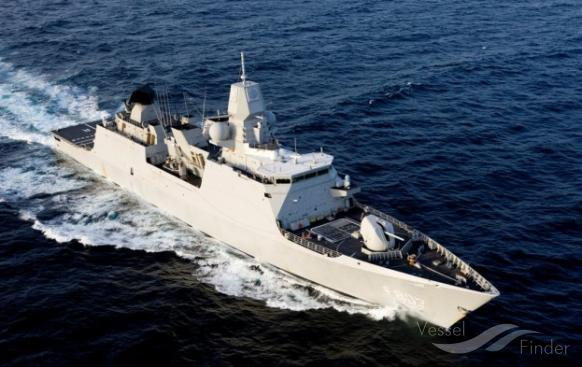OCR: (370, 280, 424, 310)
